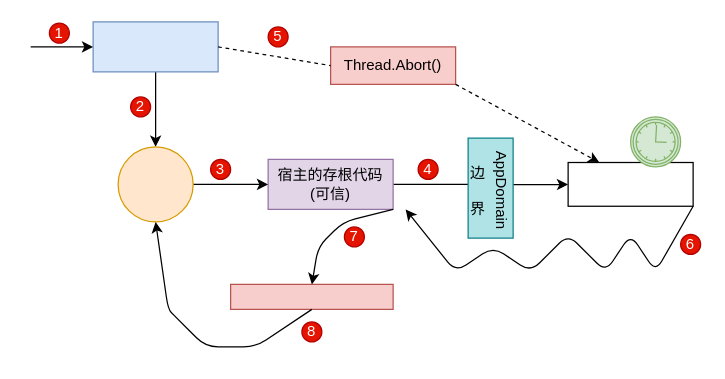
Some shapes in this 725 by 379 pixel diagram are drawn without their labels. Each missing label, with the box of its shape:
Thread.ResetAbort(): (229, 283, 393, 309)
加载项代码 (不可信): (567, 161, 693, 206)
宿主的 监管代码: (92, 21, 218, 72)
线程池: (117, 146, 193, 222)
